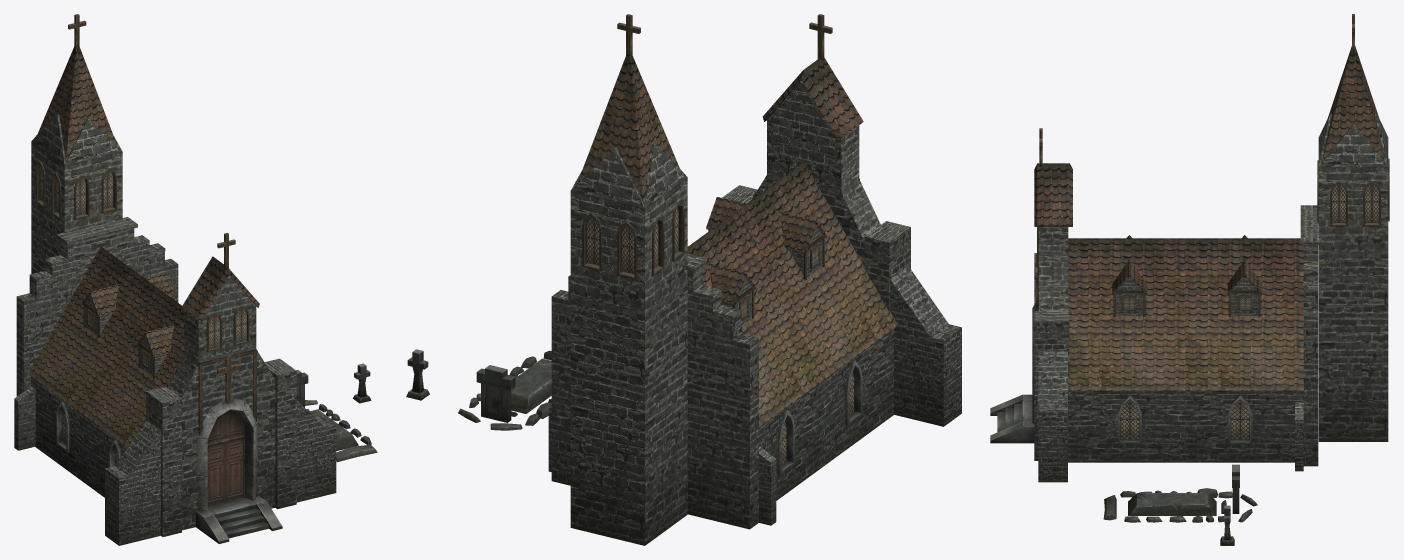
File: SC_guowangchengbao_29.FBX
3 views of the same model, side by side, from view 1: azimuth 30°, elevation 25°; view 2: azimuth 150°, elevation 25°; view 3: azimuth 270°, elevation 25° (orthographic). The views are drawn at different scales.
Visible parts, largest first — view 1: SC_guowangchengbao_29; view 2: SC_guowangchengbao_29; view 3: SC_guowangchengbao_29.
Boxes of the visible parts, x1,y1,x2,y2 form: SC_guowangchengbao_29: (14, 14, 377, 545); SC_guowangchengbao_29: (406, 14, 961, 545); SC_guowangchengbao_29: (990, 14, 1389, 545).
Size of the model in its own units: 1522 by 1691 by 1481.
